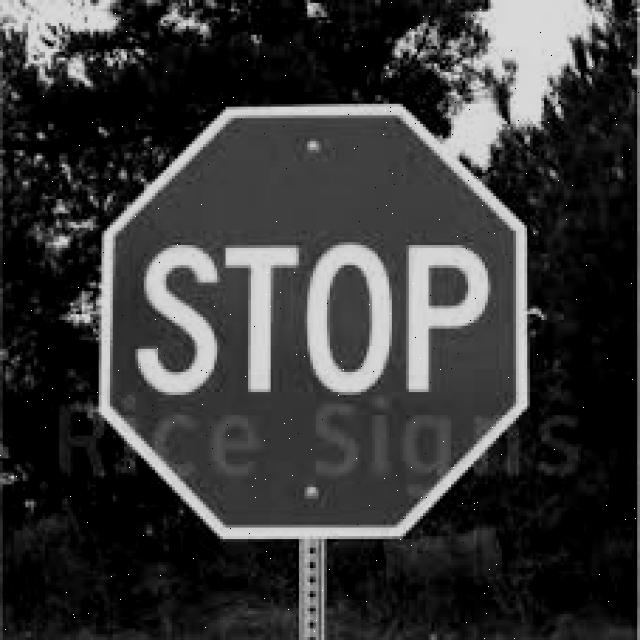stop sign: (106, 100, 532, 547)
